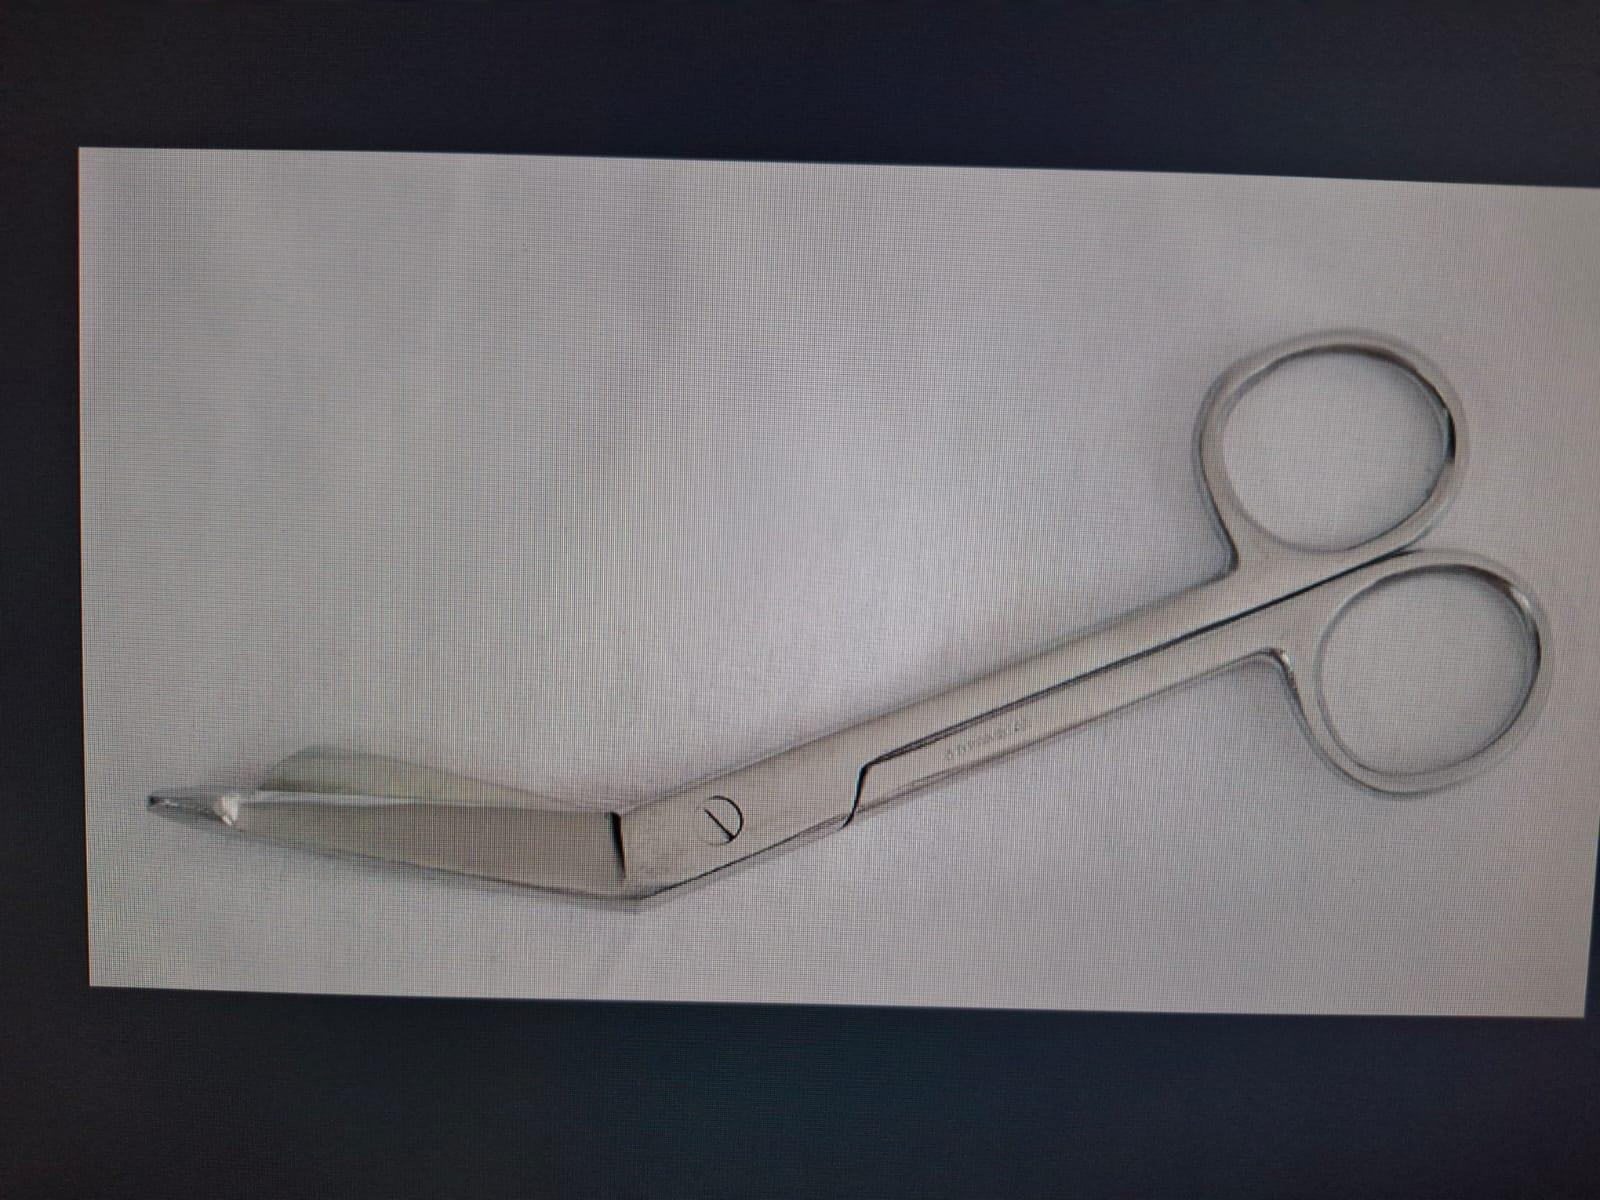Bandage Sciccors: (136, 296, 1552, 932)
